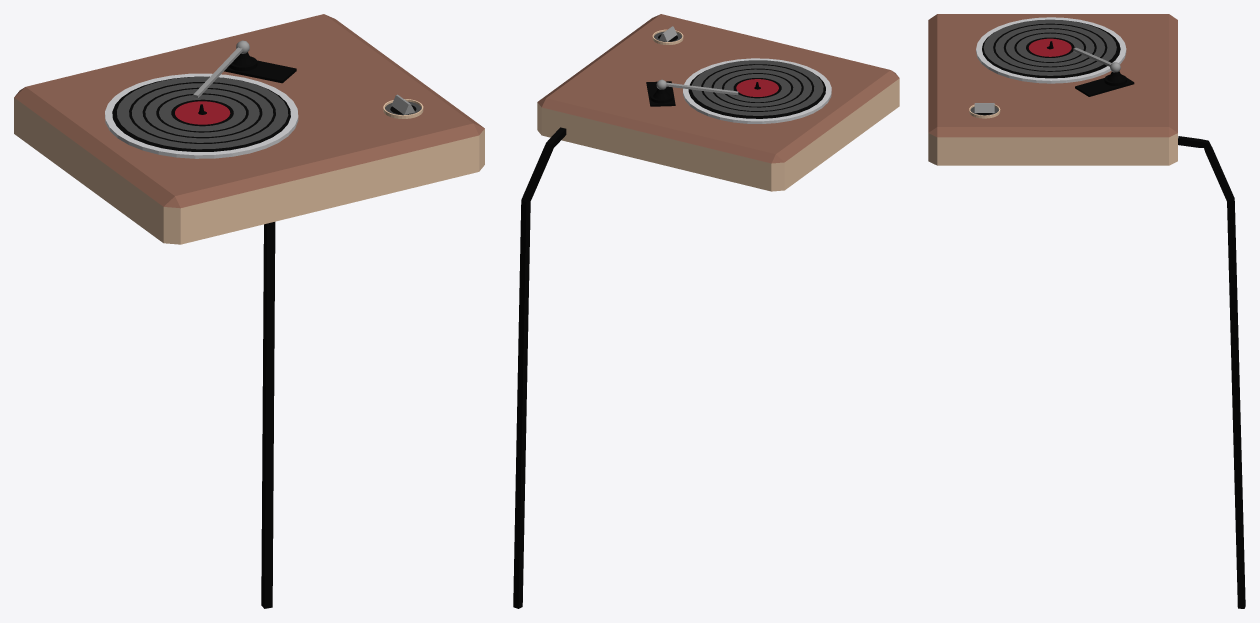
File: vinylPlayer.glb
3 renders of one model, left to right at view 1: azimuth 30°, elevation 25°; view 2: azimuth 150°, elevation 25°; view 3: azimuth 270°, elevation 25°, orthographic. The views are drawn at different scales.
Visible parts, largest first — view 1: Cube, Cylinder.003, Cube.004, Cylinder, Cube.002; view 2: Cube, Cylinder.003, Cube.004, Cylinder; view 3: Cube, Cylinder.003, Cube.004, Cylinder, Cube.002.
Boxes of the visible parts, x1=… form: Cube: x1=14, y1=14, x2=484, y2=244; Cylinder.003: x1=117, y1=76, x2=288, y2=149; Cube.004: x1=261, y1=222, x2=275, y2=608; Cylinder: x1=105, y1=73, x2=298, y2=158; Cube.002: x1=224, y1=60, x2=296, y2=83; Cube: x1=537, y1=14, x2=899, y2=191; Cylinder.003: x1=692, y1=60, x2=823, y2=115; Cube.004: x1=513, y1=127, x2=566, y2=608; Cylinder: x1=683, y1=58, x2=831, y2=123; Cube: x1=928, y1=14, x2=1177, y2=165; Cylinder.003: x1=983, y1=19, x2=1116, y2=75; Cube.004: x1=1178, y1=136, x2=1245, y2=608; Cylinder: x1=976, y1=17, x2=1126, y2=83; Cube.002: x1=1075, y1=74, x2=1134, y2=96.
Bounding box in the file's own units: 0.4334 × 0.8386 × 0.4776.
Materials: 1 (1 with a texture image).
